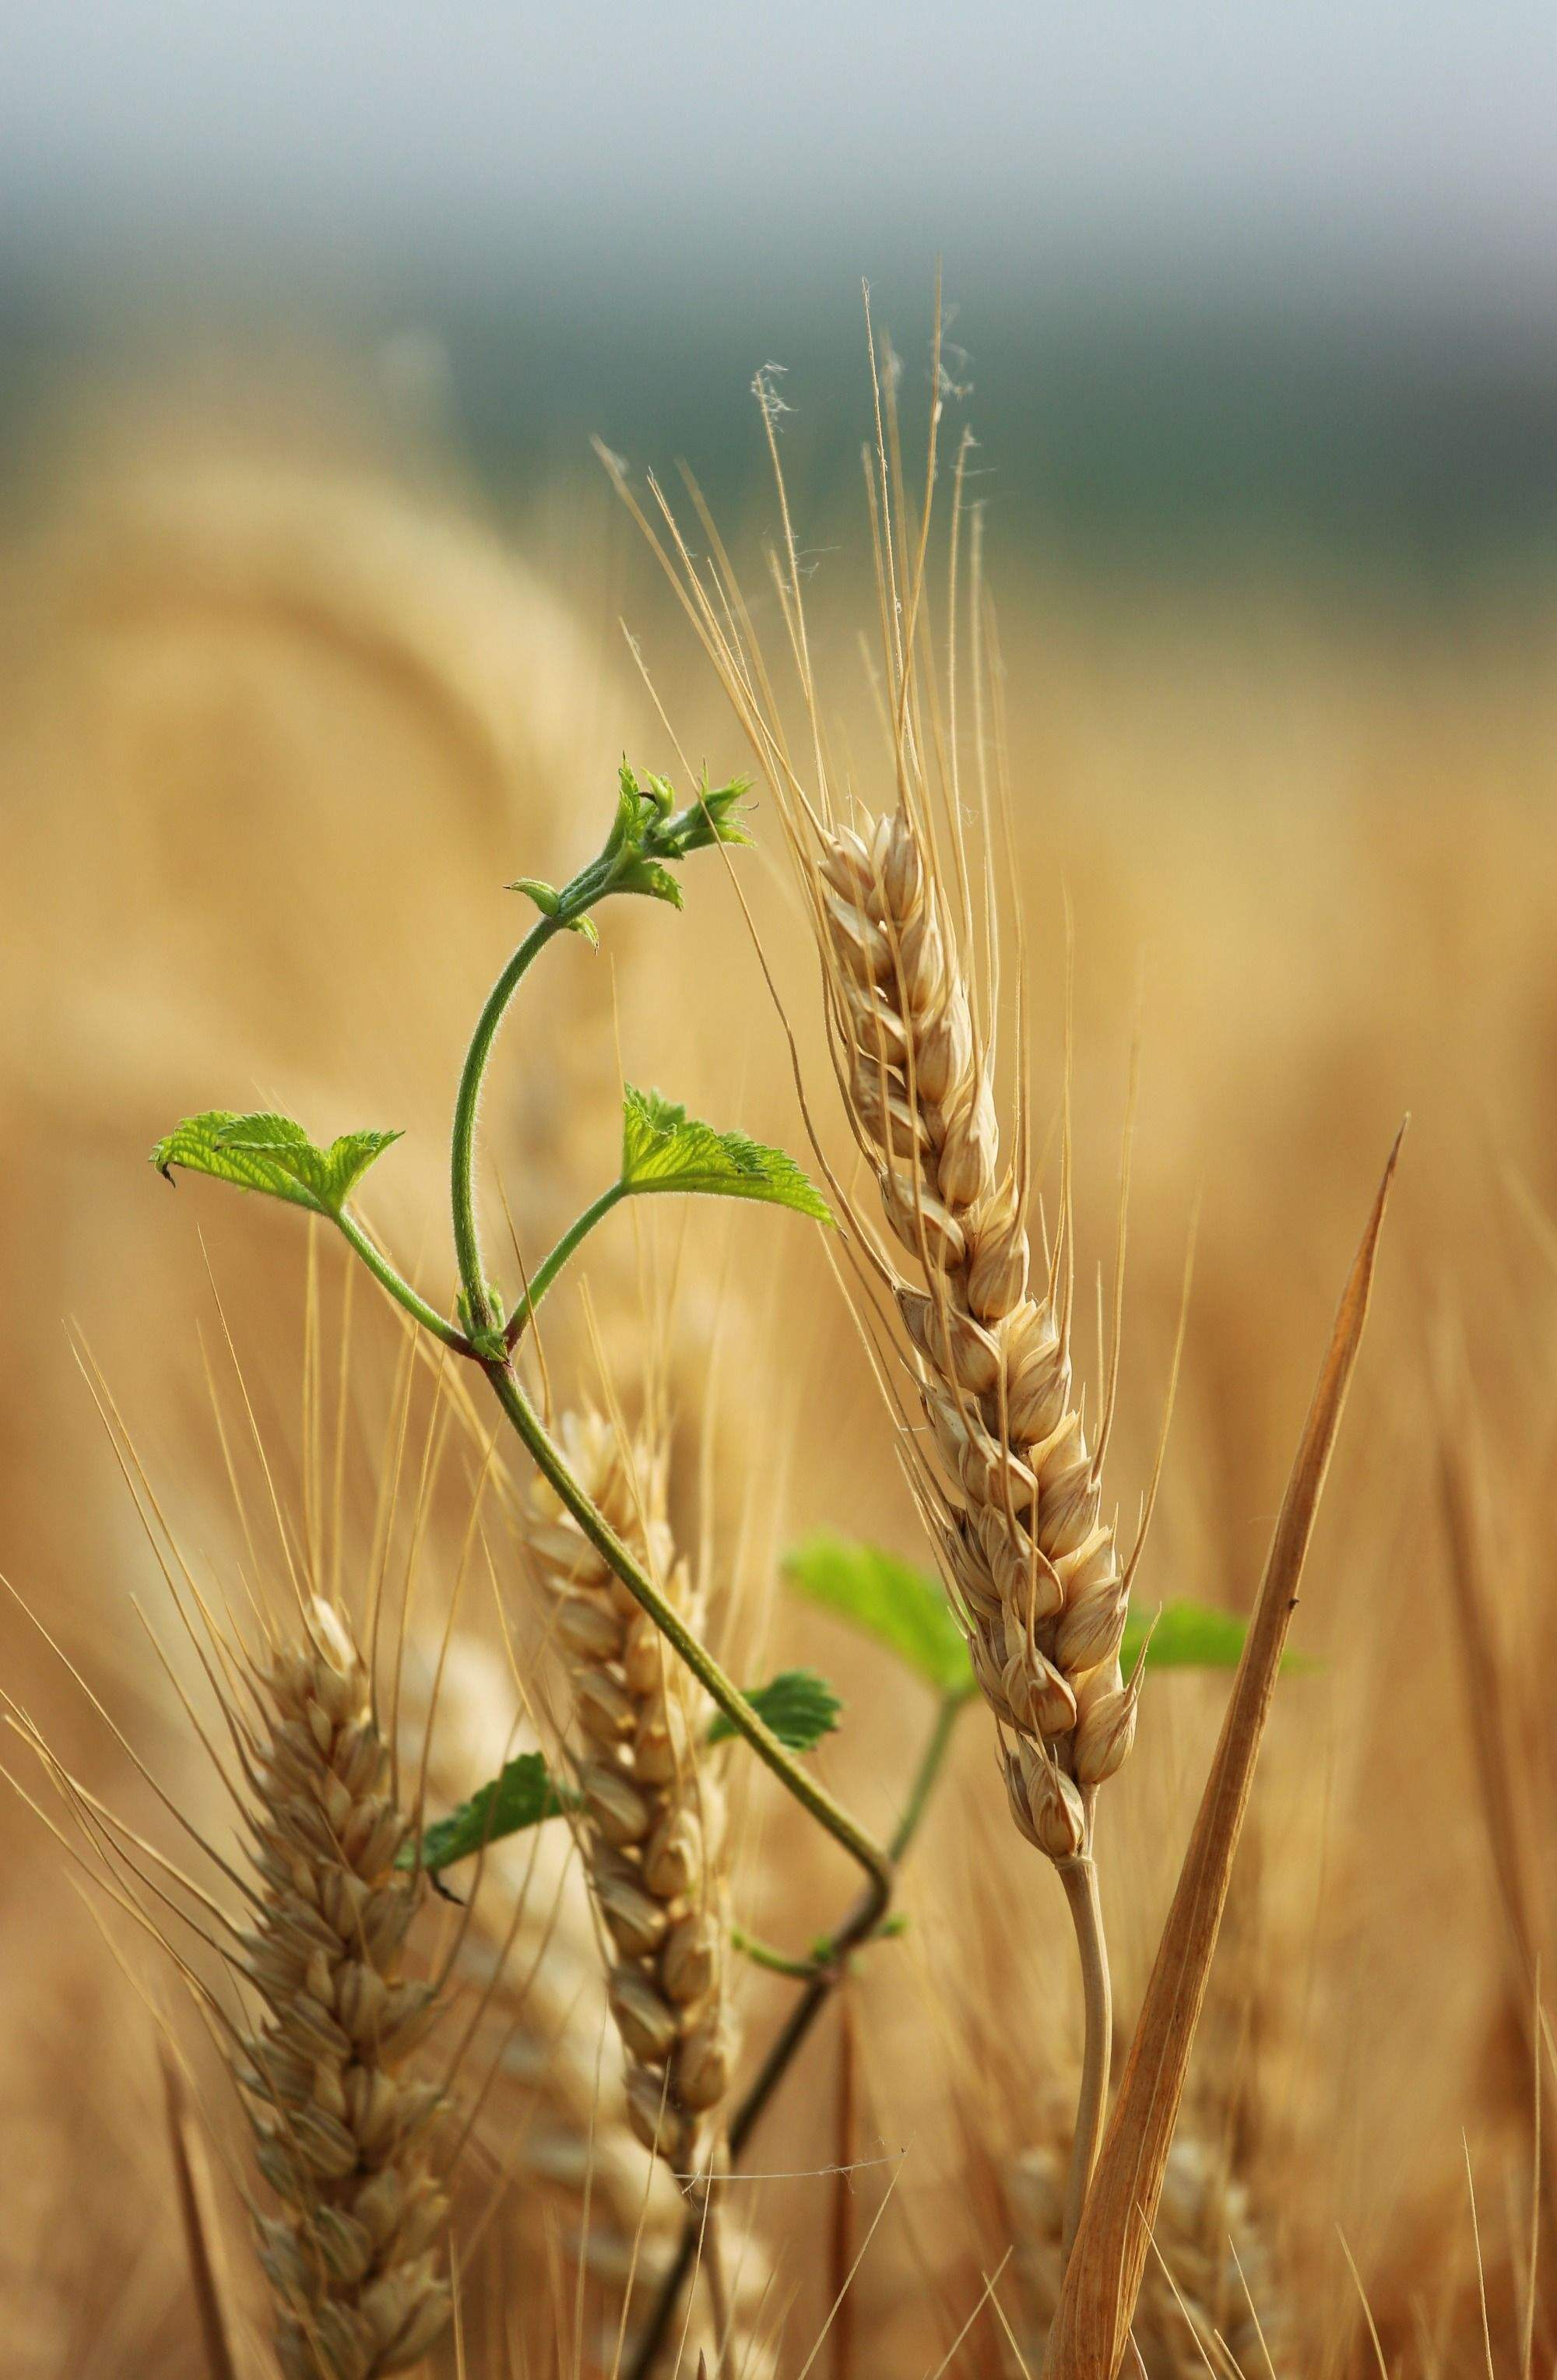wheat: (766, 657, 1189, 1899), (127, 1572, 460, 2357), (533, 1386, 765, 2189)
